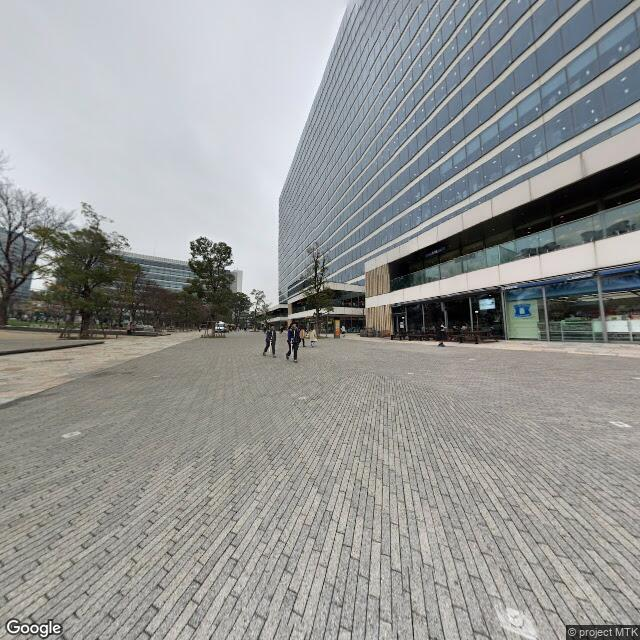lawson: (508, 295, 534, 321)
